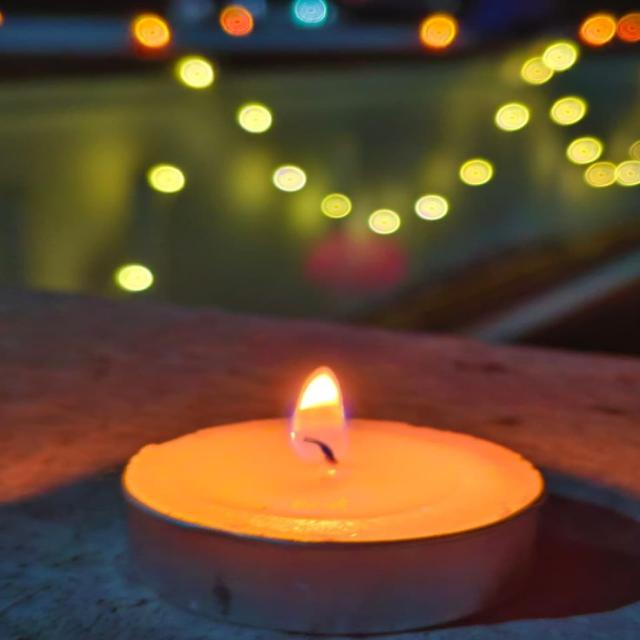fire: (292, 367, 345, 473)
